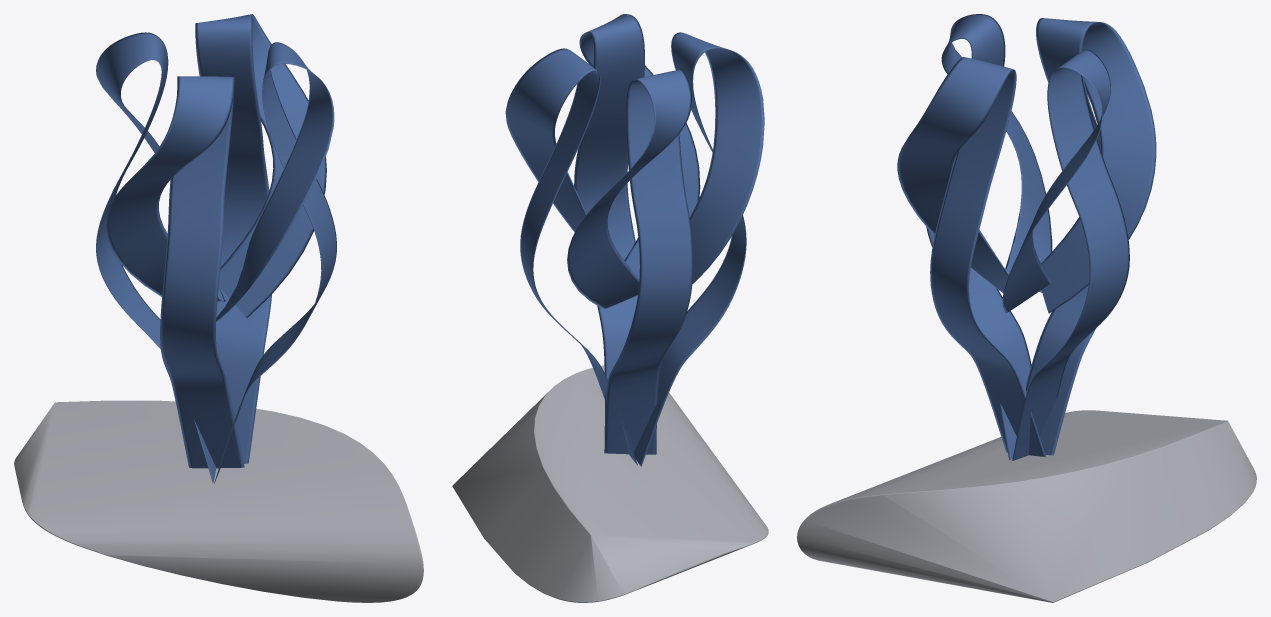
Rendered from saas.glb.
The picture shows the model from 3 angles, left to right: view 1: azimuth 30°, elevation 25°; view 2: azimuth 150°, elevation 25°; view 3: azimuth 270°, elevation 25°; orthographic projection. The views are drawn at different scales.
Visible parts, largest first — view 1: Object_3, Object_2; view 2: Object_3, Object_2; view 3: Object_3, Object_2.
Boxes of the visible parts, box(x1,y1,x2,y2) form: Object_3: box(96, 14, 336, 483); Object_2: box(14, 400, 423, 602); Object_3: box(505, 14, 764, 466); Object_2: box(452, 365, 768, 602); Object_3: box(897, 14, 1156, 460); Object_2: box(797, 410, 1256, 602).
Bounding box in the file's own units: 0.6284 × 0.9085 × 0.7707.
